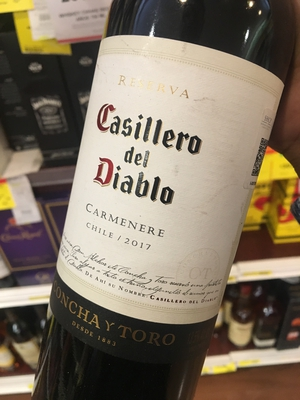casillero del diablo carmenere: (49, 22, 293, 400)
